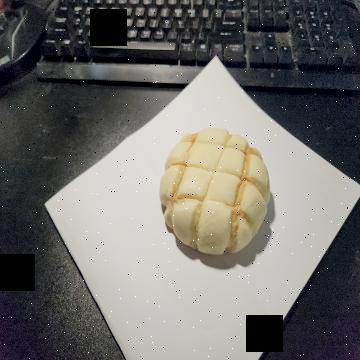melon_bread: (160, 127, 271, 255)
